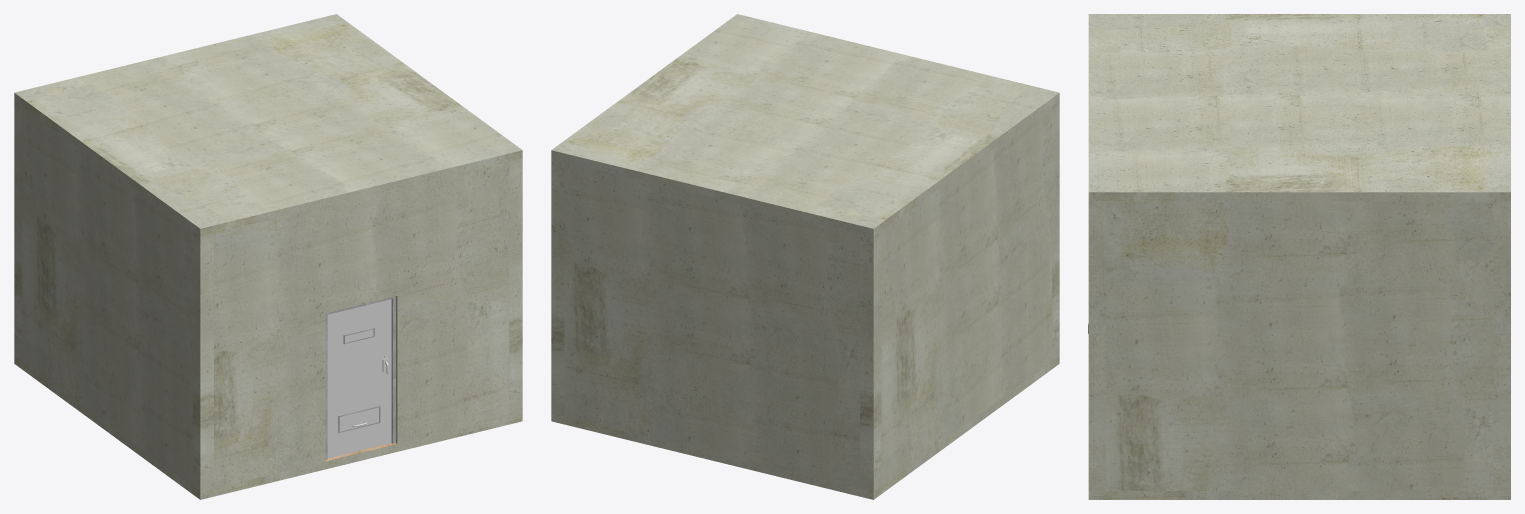
Rendered from MaintanceRoom.fbx.
3 views of the same model, side by side, from view 1: azimuth 30°, elevation 25°; view 2: azimuth 150°, elevation 25°; view 3: azimuth 270°, elevation 25° (orthographic). The views are drawn at different scales.
Parts seen in each view (by area): view 1: Wall.056, Wall.060, Wall.057, Cube.003, Wall.053, Wall.051, Wall.052, Wall.055, Door.002; view 2: Wall.059, Wall.060, Wall.057, Wall.055, Wall.051, Wall.054, Wall.053; view 3: Wall.058, Wall.060, Wall.052, Wall.054, Wall.051.
Boxes of the visible parts, x1,y1,x2,y2 form: Wall.056: (214, 161, 509, 488); Wall.060: (14, 14, 522, 236); Wall.057: (22, 106, 192, 485); Cube.003: (327, 299, 391, 458); Wall.053: (192, 231, 213, 491); Wall.051: (14, 356, 522, 499); Wall.052: (509, 158, 522, 416); Wall.055: (14, 101, 21, 360); Door.002: (325, 296, 395, 459); Wall.059: (564, 161, 859, 488); Wall.060: (551, 14, 1059, 236); Wall.057: (881, 106, 1051, 485); Wall.055: (860, 231, 881, 491); Wall.051: (551, 356, 1059, 499); Wall.054: (551, 158, 564, 416); Wall.053: (1052, 101, 1059, 360); Wall.058: (1106, 201, 1493, 490); Wall.060: (1088, 14, 1510, 201); Wall.052: (1088, 201, 1106, 490); Wall.054: (1493, 201, 1510, 490); Wall.051: (1088, 491, 1510, 499).
Size of the model in its own units: 102 by 82.29 by 103.
14 materials, 10 textured.
